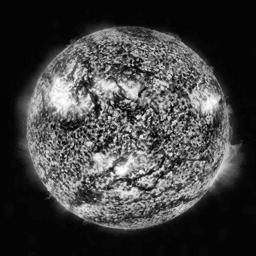solar flares: (50, 79, 71, 115), (192, 88, 218, 114), (91, 152, 113, 172), (121, 82, 139, 102), (97, 80, 116, 96), (116, 162, 132, 178)
sunspots: (201, 118, 220, 149), (122, 59, 148, 80), (147, 124, 165, 152), (75, 184, 97, 205), (122, 28, 152, 43), (93, 133, 115, 150), (123, 107, 142, 126), (64, 118, 89, 128)
